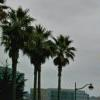Palm tree: (6, 4, 74, 85)
